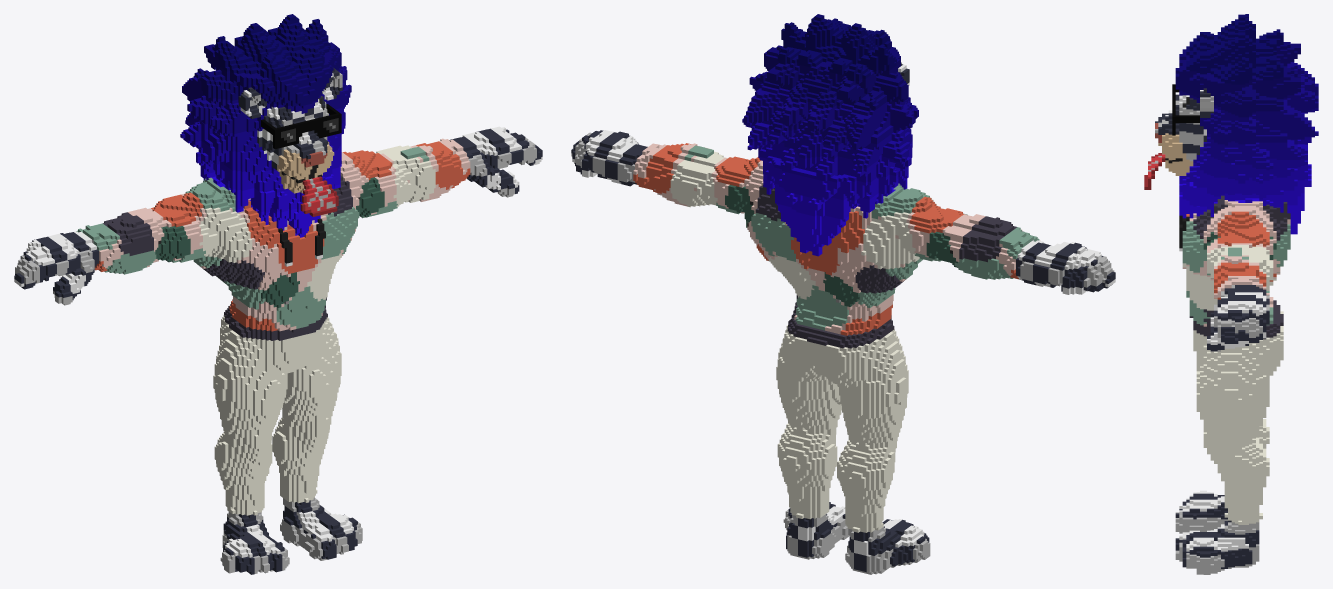
3 renders of one model, left to right at view 1: azimuth 30°, elevation 25°; view 2: azimuth 150°, elevation 25°; view 3: azimuth 270°, elevation 25°, orthographic. The views are drawn at different scales.
Visible parts, largest first — view 1: meat; view 2: meat; view 3: meat.
Part boxes in pixels (x1,y1,x2,y2): meat: (14,14,542,574); meat: (571,14,1115,574); meat: (1144,14,1318,574).
Size of the model in its own units: 17.2 by 16.5 by 5.
Materials: 5 (5 with a texture image).
